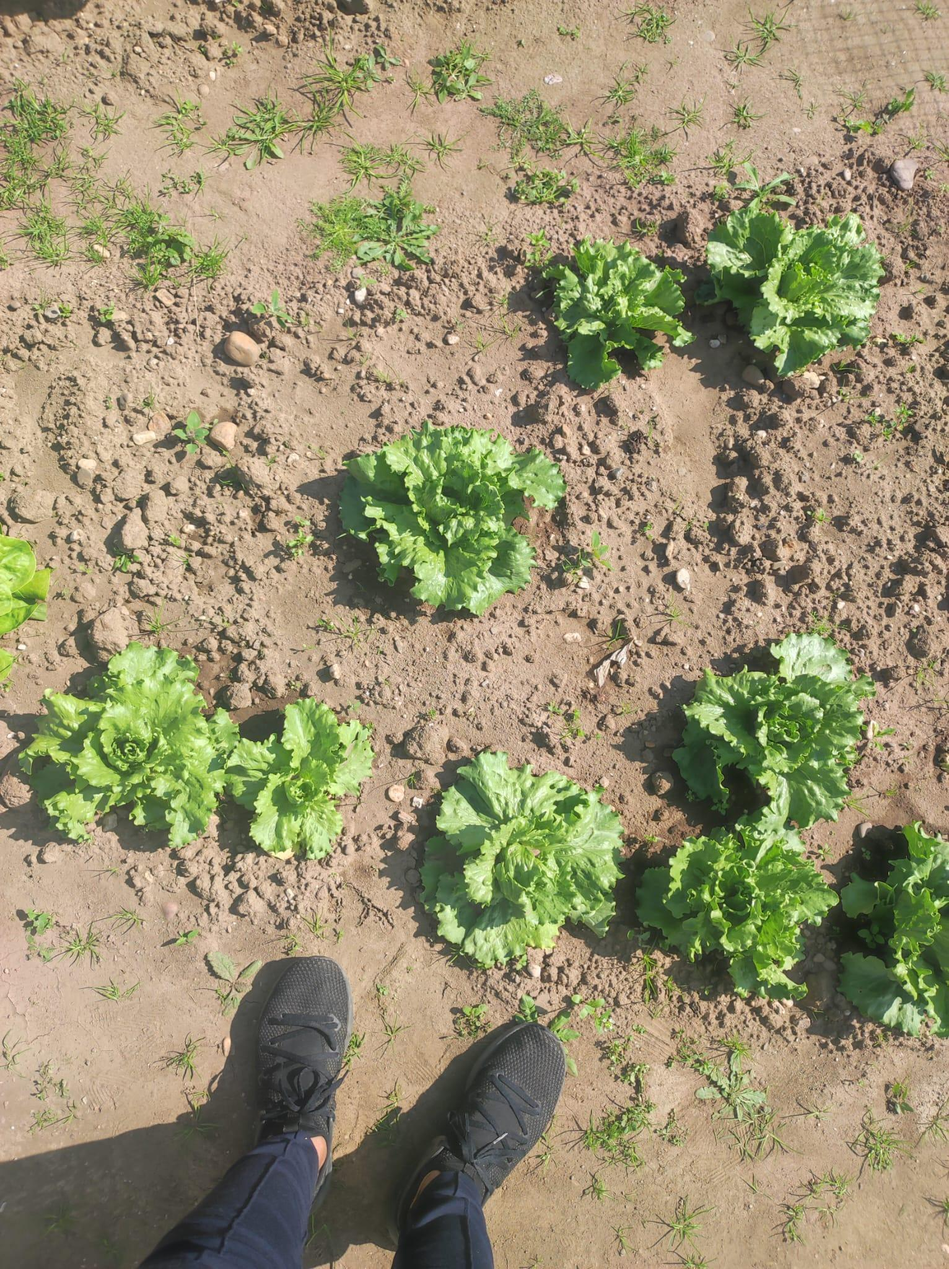Healthy: (17, 643, 238, 847), (339, 422, 565, 616), (421, 753, 624, 968), (674, 634, 877, 828), (637, 810, 840, 1000), (698, 198, 885, 375), (224, 699, 374, 860), (840, 823, 949, 1038), (546, 237, 694, 388)
